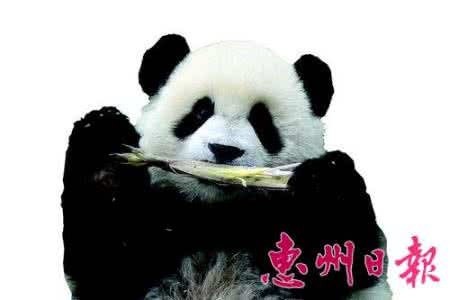panda: (67, 30, 389, 300)
